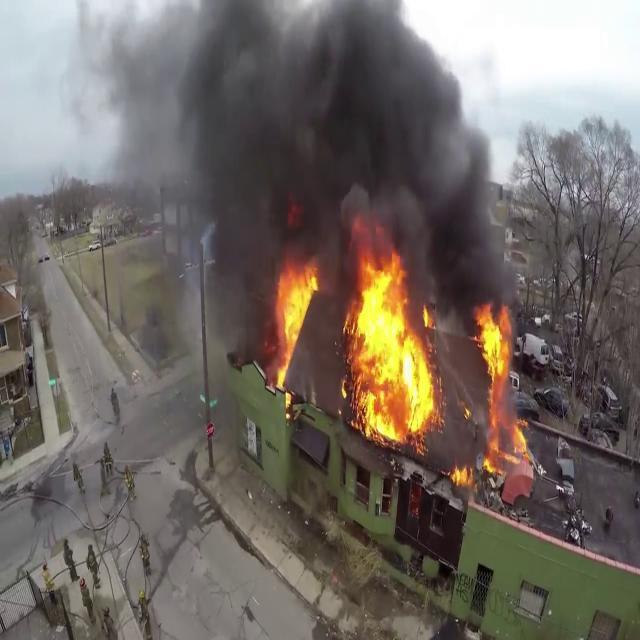Fire: (340, 247, 440, 447), (473, 301, 536, 490), (270, 257, 318, 393)
Smoke: (91, 0, 522, 302)
